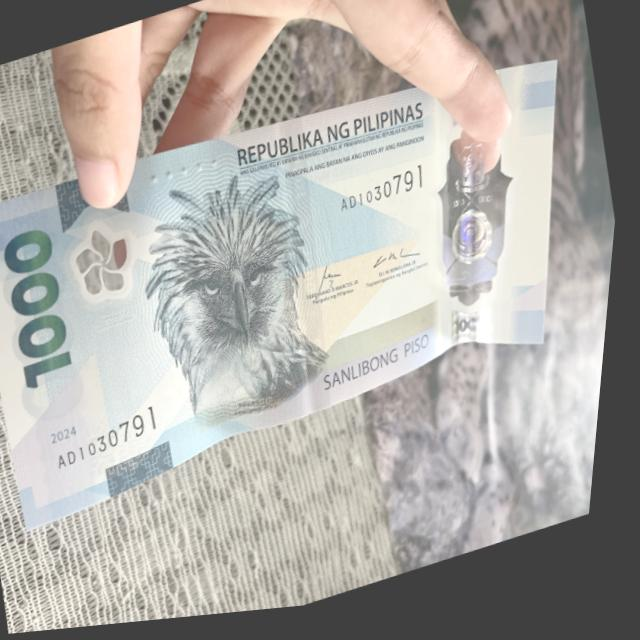clear_window: (409, 121, 556, 333)
eagle: (144, 156, 358, 438)
sampaguita: (60, 206, 164, 349)
security_thread: (240, 111, 374, 429)
serial_number: (46, 396, 180, 483), (334, 156, 442, 229)
value: (0, 204, 98, 394)
value_watermark: (447, 314, 502, 349)
